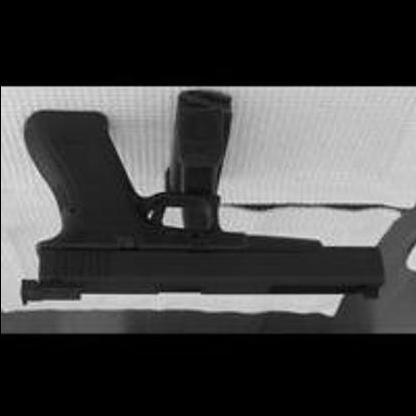weapon: (15, 90, 390, 307)
